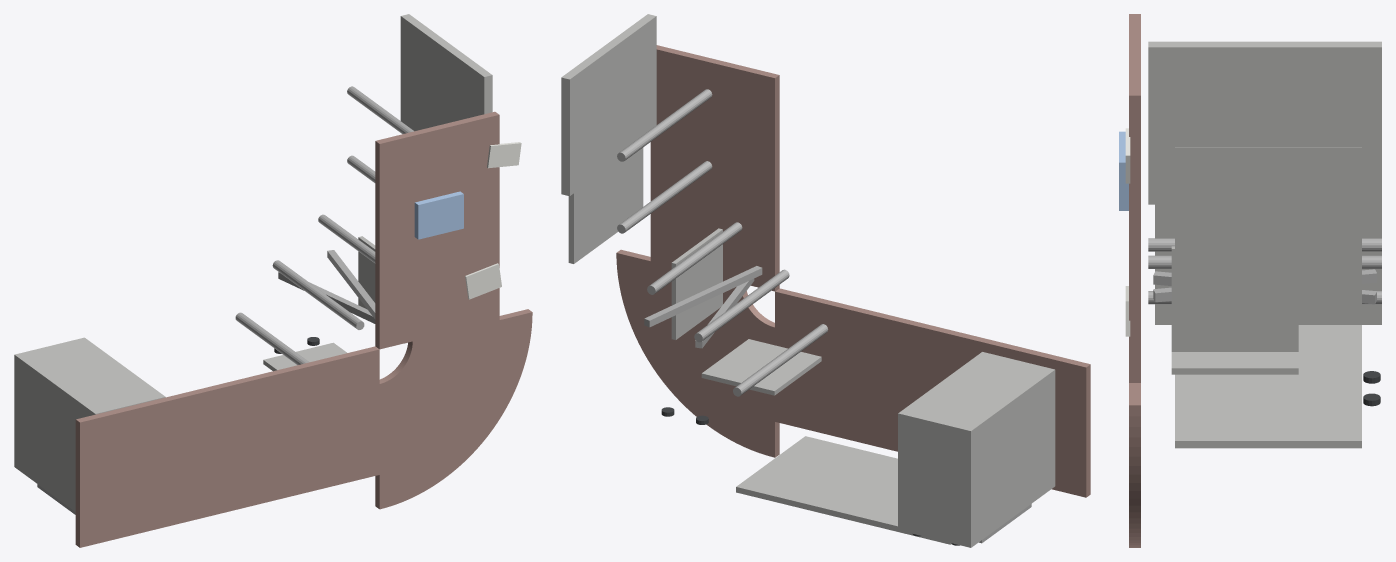
The model's file is 01_l_shape_corner_desk_curved_90deg.obj.
3 renders of one model, left to right at view 1: azimuth 30°, elevation 25°; view 2: azimuth 150°, elevation 25°; view 3: azimuth 270°, elevation 25°, orthographic. The views are drawn at different scales.
Parts seen in each view (by area): view 1: l_shape_corner_desk_long_top, l_shape_corner_desk_short_top, l_shape_corner_desk_corner_curve, l_shape_corner_desk_left_support_body, l_shape_corner_desk_right_end_panel, l_shape_corner_desk_curve_fill_x, l_shape_corner_desk_curve_fill_y, l_shape_corner_desk_book_stack, l_shape_corner_desk_leg_0, l_shape_corner_desk_corner_inner_panel_x, l_shape_corner_desk_paper_stack_a, l_shape_corner_desk_leg_4 (+6 smaller); view 2: l_shape_corner_desk_long_top, l_shape_corner_desk_left_support_body, l_shape_corner_desk_short_top, l_shape_corner_desk_corner_curve, l_shape_corner_desk_right_end_panel, l_shape_corner_desk_long_front_panel, l_shape_corner_desk_short_front_panel, l_shape_corner_desk_curve_fill_x, l_shape_corner_desk_corner_inner_panel_x, l_shape_corner_desk_corner_inner_panel_y, l_shape_corner_desk_curve_fill_y, l_shape_corner_desk_brace_b (+5 smaller); view 3: l_shape_corner_desk_short_front_panel, l_shape_corner_desk_right_end_panel, l_shape_corner_desk_long_front_panel, l_shape_corner_desk_corner_inner_panel_y, l_shape_corner_desk_short_top, l_shape_corner_desk_left_support_body, l_shape_corner_desk_corner_inner_panel_x, l_shape_corner_desk_corner_curve, l_shape_corner_desk_book_stack, l_shape_corner_desk_leg_1, l_shape_corner_desk_leg_0, l_shape_corner_desk_brace_a (+1 smaller).
Boxes of the visible parts, <box> form: l_shape_corner_desk_long_top: <box>75,346,379,547</box>; l_shape_corner_desk_short_top: <box>375,111,499,349</box>; l_shape_corner_desk_corner_curve: <box>375,309,532,509</box>; l_shape_corner_desk_left_support_body: <box>14,337,165,511</box>; l_shape_corner_desk_right_end_panel: <box>400,14,492,131</box>; l_shape_corner_desk_curve_fill_x: <box>326,347,379,486</box>; l_shape_corner_desk_curve_fill_y: <box>375,277,499,348</box>; l_shape_corner_desk_book_stack: <box>414,191,463,239</box>; l_shape_corner_desk_leg_0: <box>272,260,364,329</box>; l_shape_corner_desk_corner_inner_panel_x: <box>263,342,346,371</box>; l_shape_corner_desk_paper_stack_a: <box>465,263,501,299</box>; l_shape_corner_desk_leg_4: <box>235,312,308,365</box>; l_shape_corner_desk_long_top: <box>775,288,1090,497</box>; l_shape_corner_desk_left_support_body: <box>898,352,1055,547</box>; l_shape_corner_desk_short_top: <box>650,45,779,291</box>; l_shape_corner_desk_corner_curve: <box>616,249,779,457</box>; l_shape_corner_desk_right_end_panel: <box>561,14,656,196</box>; l_shape_corner_desk_long_front_panel: <box>736,436,951,544</box>; l_shape_corner_desk_short_front_panel: <box>568,147,643,263</box>; l_shape_corner_desk_curve_fill_x: <box>775,289,830,433</box>; l_shape_corner_desk_corner_inner_panel_x: <box>701,339,821,395</box>; l_shape_corner_desk_corner_inner_panel_y: <box>671,228,722,339</box>; l_shape_corner_desk_curve_fill_y: <box>651,209,779,290</box>; l_shape_corner_desk_brace_b: <box>644,266,762,327</box>; l_shape_corner_desk_short_front_panel: <box>1175,147,1361,304</box>; l_shape_corner_desk_right_end_panel: <box>1148,41,1381,204</box>; l_shape_corner_desk_long_front_panel: <box>1175,325,1361,448</box>; l_shape_corner_desk_corner_inner_panel_y: <box>1171,246,1298,351</box>; l_shape_corner_desk_short_top: <box>1129,14,1140,382</box>; l_shape_corner_desk_left_support_body: <box>1155,204,1381,324</box>; l_shape_corner_desk_corner_inner_panel_x: <box>1171,352,1298,374</box>; l_shape_corner_desk_corner_curve: <box>1129,383,1140,547</box>; l_shape_corner_desk_book_stack: <box>1119,131,1128,210</box>; l_shape_corner_desk_leg_1: <box>1148,238,1381,251</box>; l_shape_corner_desk_leg_0: <box>1148,255,1381,268</box>; l_shape_corner_desk_brace_a: <box>1153,269,1376,302</box>.
Bounding box in the file's own units: 2.19 × 1.85 × 0.788.
